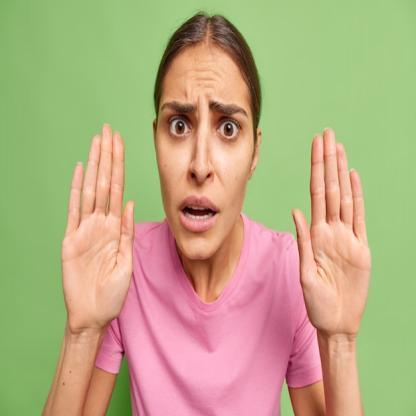stop: (288, 124, 374, 342), (60, 116, 138, 334)
